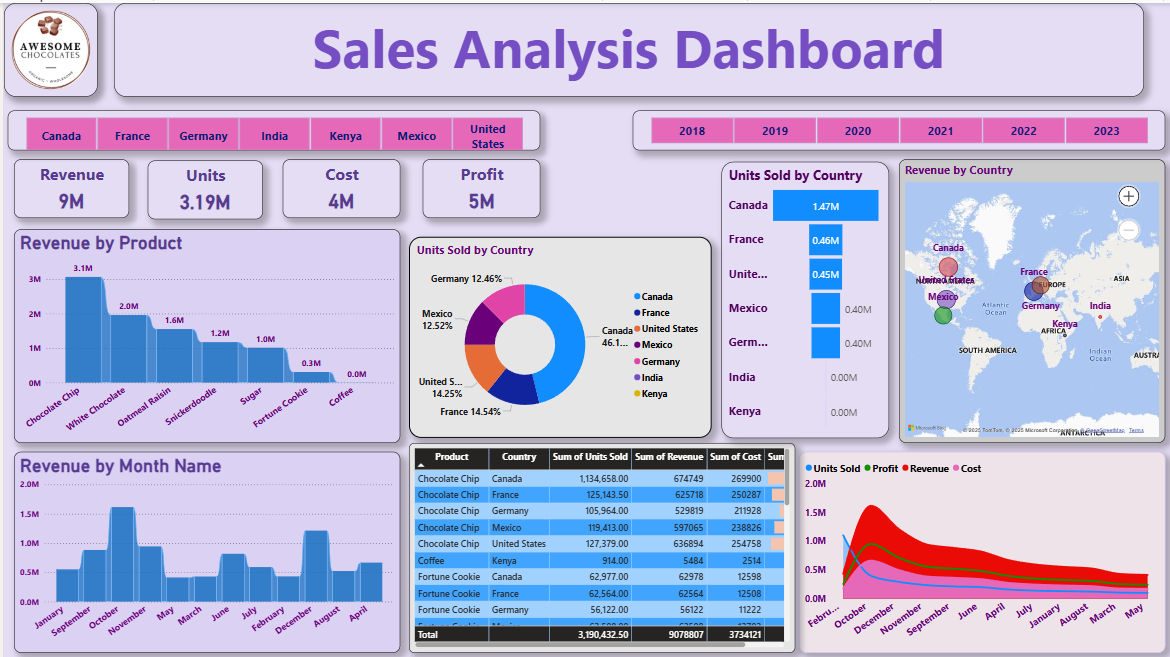

The dashboard page shown, as its layout file describes it:
{"tool":"powerbi","page":{"name":"Sales_DashBoard","canvas":[1920,1080],"ordinal":0},"visuals":[{"type":"image","box":[0,0,154.4,154.4],"z":0},{"type":"textbox","box":[181.1,0,1696.1,154.4],"z":1000},{"type":"card","title":"Revenue","fields":{"Values":["Sum(Sheet1.Revenue)"]},"box":[16.5,257.3,189.4,96.7],"z":2000},{"type":"card","title":"Units","fields":{"Values":["Sum(Sheet1.Units Sold)"]},"box":[236.7,259.3,189.4,96.7],"z":3000},{"type":"card","title":"Profit","fields":{"Values":["Sum(Sheet1.Profit)"]},"box":[689.5,257.3,193.5,96.7],"z":4000},{"type":"card","title":"Cost","fields":{"Values":["Sum(Sheet1.Cost)"]},"box":[459,257.3,193.5,96.7],"z":5000},{"type":"columnChart","title":"Revenue by Product","fields":{"Y":["Sum(Sheet1.Revenue)"],"Category":["Sheet1.Product"]},"box":[16.5,372.6,636,352],"z":6000},{"type":"donutChart","title":"Units Sold by Country","fields":{"Y":["Sum(Sheet1.Units Sold)"],"Category":["Sheet1.Country"]},"box":[666.9,384.9,498.1,331.4],"z":7000},{"type":"map","title":"Revenue by Country","fields":{"Size":["Sum(Sheet1.Revenue)"],"Category":["Sheet1.Country"]},"box":[1473.8,257.3,438.4,467.2],"z":8000},{"type":"lineChart","fields":{"Category":["Sheet1.Month Name"],"Y":["Sum(Sheet1.Units Sold)","Sum(Sheet1.Profit)","Sum(Sheet1.Revenue)","Sum(Sheet1.Cost)"]},"box":[1309.1,738.9,603.1,331.4],"z":9000},{"type":"tableEx","fields":{"Values":["Sheet1.Product","Sheet1.Country","Sum(Sheet1.Units Sold)","Sum(Sheet1.Revenue)","Sum(Sheet1.Cost)","Sum(Sheet1.Profit)"]},"box":[666.9,724.5,636,345.8],"z":10001},{"type":"columnChart","title":"Revenue by Month Name","fields":{"Category":["Sheet1.Month Name"],"Y":["Sum(Sheet1.Revenue)"]},"box":[16.5,738.9,636,331.4],"z":10002},{"type":"slicer","fields":{"Values":["Sheet1.Country"]},"box":[6.2,177,876.8,65.9],"z":10003},{"type":"slicer","fields":{"Values":["Sheet1.Year"]},"box":[1035.3,177,876.8,65.9],"z":10004},{"type":"funnel","title":"Units Sold by Country","fields":{"Y":["Sum(Sheet1.Units Sold)"],"Category":["Sheet1.Country"]},"box":[1181.5,261.4,275.8,454.9],"z":10005}]}

Visuals, with their boxes in screenshot pixels (x1, y1, x2, y2), scaled from the page's 1920x1080 canvas onto the 1170x657 screenshot:
image: detection(0, 0, 94, 94)
textbox: detection(110, 0, 1144, 94)
"Revenue" card: detection(10, 157, 125, 215)
"Units" card: detection(144, 158, 260, 217)
"Profit" card: detection(420, 157, 538, 215)
"Cost" card: detection(280, 157, 398, 215)
"Revenue by Product" columnChart: detection(10, 227, 398, 441)
"Units Sold by Country" donutChart: detection(406, 234, 710, 436)
"Revenue by Country" map: detection(898, 157, 1165, 441)
lineChart - Sheet1.Month Name x Sum(Sheet1.Units Sold): detection(798, 449, 1165, 651)
tableEx - Sheet1.Product x Sheet1.Country: detection(406, 441, 794, 651)
"Revenue by Month Name" columnChart: detection(10, 449, 398, 651)
slicer - Sheet1.Country: detection(4, 108, 538, 148)
slicer - Sheet1.Year: detection(631, 108, 1165, 148)
"Units Sold by Country" funnel: detection(720, 159, 888, 436)
